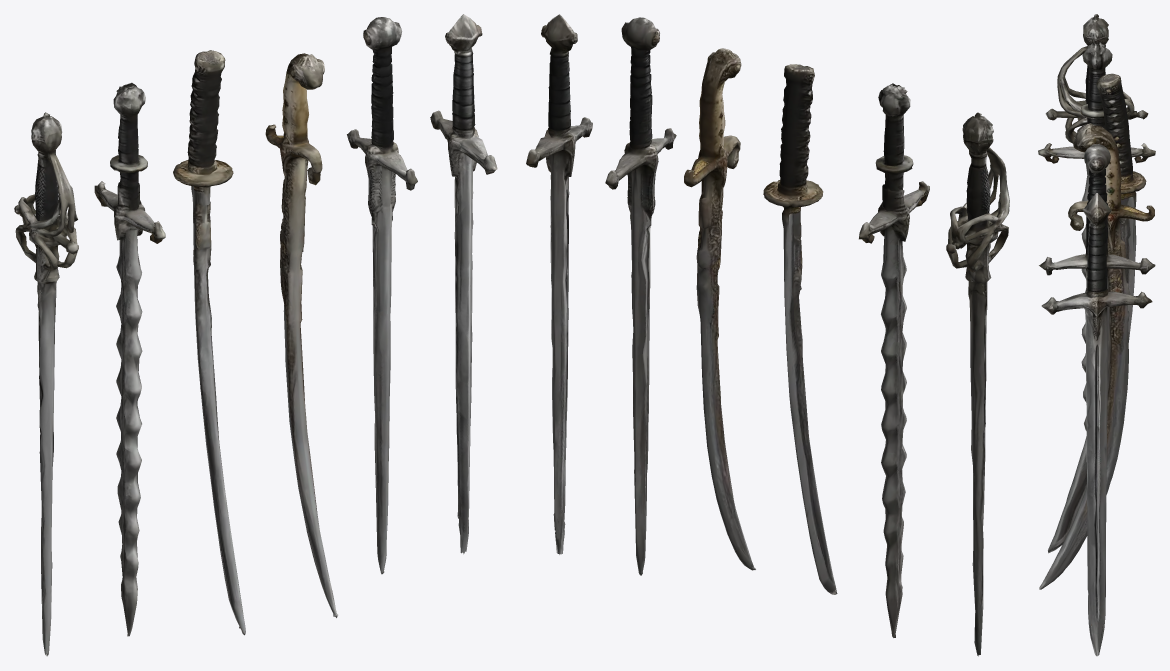
Rendered from weapons_swords_long.glb.
The picture shows the model from 3 angles, left to right: view 1: azimuth 30°, elevation 25°; view 2: azimuth 150°, elevation 25°; view 3: azimuth 270°, elevation 25°; orthographic projection. The views are drawn at different scales.
Visible parts, largest first — view 1: sword_long_flamberge, sword_long_scimitar, sword_long_bastard, sword_long_rapier, sword_long_tachi, sword_long_longsword; view 2: sword_long_flamberge, sword_long_scimitar, sword_long_bastard, sword_long_rapier, sword_long_tachi, sword_long_longsword; view 3: sword_long_longsword, sword_long_scimitar, sword_long_tachi, sword_long_bastard, sword_long_flamberge, sword_long_rapier.
Part boxes in pixels (box(x1,y1,x2,y2)): sword_long_flamberge: box(94, 82, 165, 636); sword_long_scimitar: box(265, 53, 338, 617); sword_long_bastard: box(347, 17, 417, 574); sword_long_rapier: box(14, 112, 78, 656); sword_long_tachi: box(173, 50, 245, 635); sword_long_longsword: box(430, 14, 497, 554); sword_long_flamberge: box(859, 83, 929, 637); sword_long_scimitar: box(684, 48, 755, 570); sword_long_bastard: box(605, 17, 676, 575); sword_long_rapier: box(946, 112, 1009, 656); sword_long_tachi: box(763, 64, 837, 594); sword_long_longsword: box(526, 14, 592, 555); sword_long_longsword: box(1041, 193, 1152, 656); sword_long_scimitar: box(1039, 123, 1154, 589); sword_long_tachi: box(1048, 73, 1146, 553); sword_long_bastard: box(1039, 144, 1155, 521); sword_long_flamberge: box(1038, 42, 1155, 430); sword_long_rapier: box(1045, 14, 1148, 143).
Bounding box in the file's own units: 0.6025 × 0.7007 × 0.1568.
1 material, 1 textured.
